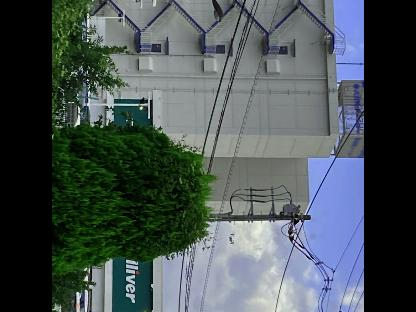Tornado: (230, 230, 236, 244)
